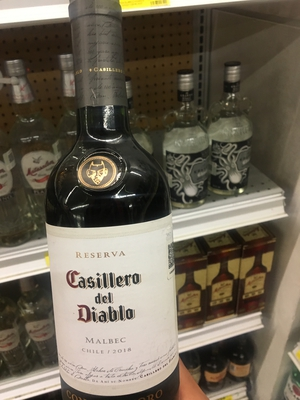casillero del diablo malbec: (35, 8, 207, 400)
